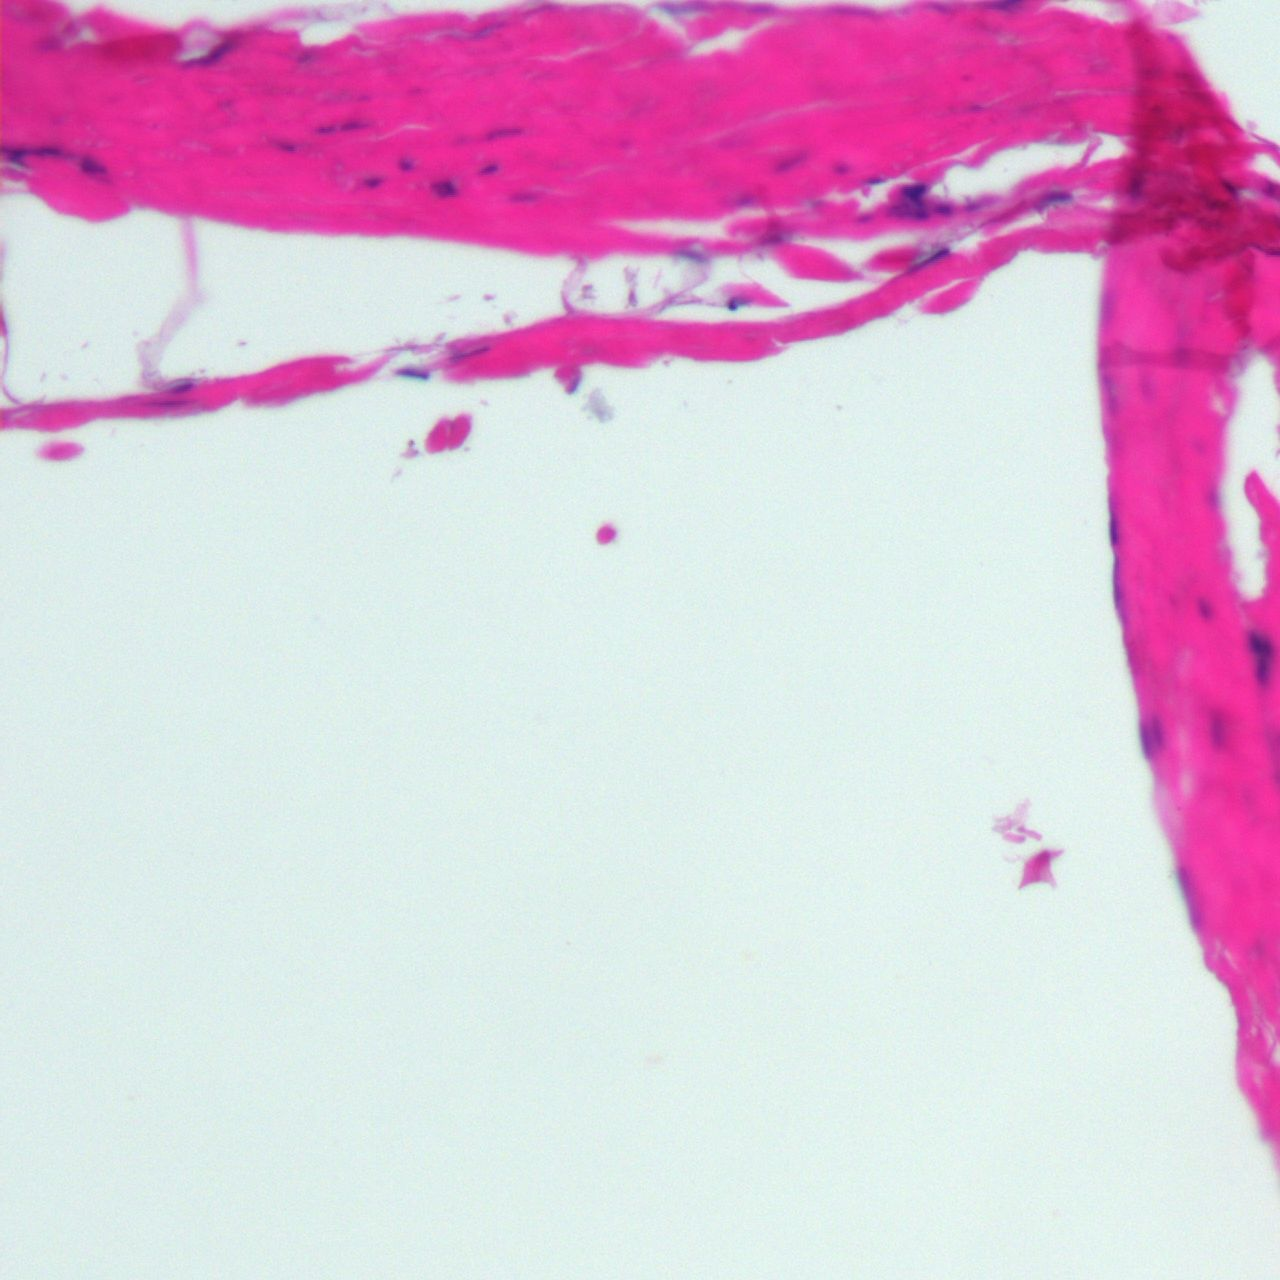dust: (728, 298, 738, 311)
nucleus-HE: (4, 141, 67, 166), (480, 118, 526, 147), (1249, 629, 1272, 679), (1140, 715, 1168, 754), (75, 152, 111, 182), (1107, 485, 1121, 550), (1033, 189, 1073, 211), (315, 118, 368, 132), (1207, 704, 1222, 748), (144, 399, 191, 411), (1193, 591, 1213, 619), (431, 178, 458, 198), (1111, 556, 1120, 616), (890, 205, 924, 218), (271, 136, 297, 152), (904, 184, 923, 204), (364, 175, 382, 190), (396, 157, 415, 171), (478, 162, 498, 175), (936, 202, 950, 215), (835, 162, 850, 174)
